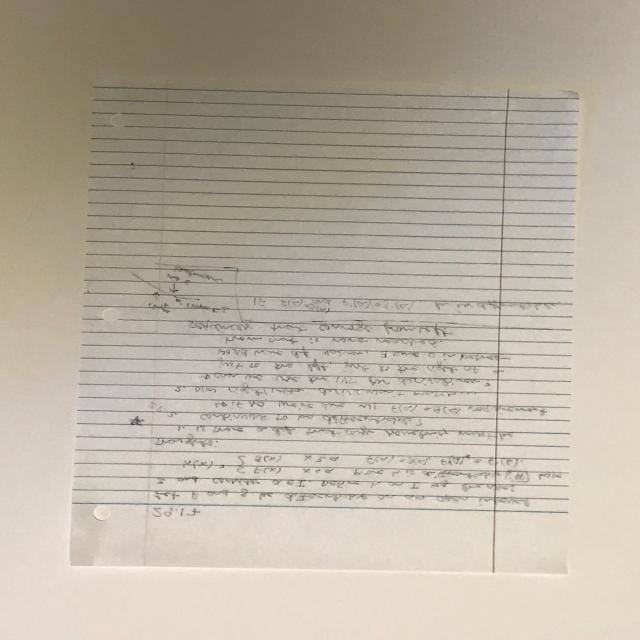paper: (70, 84, 580, 574)
